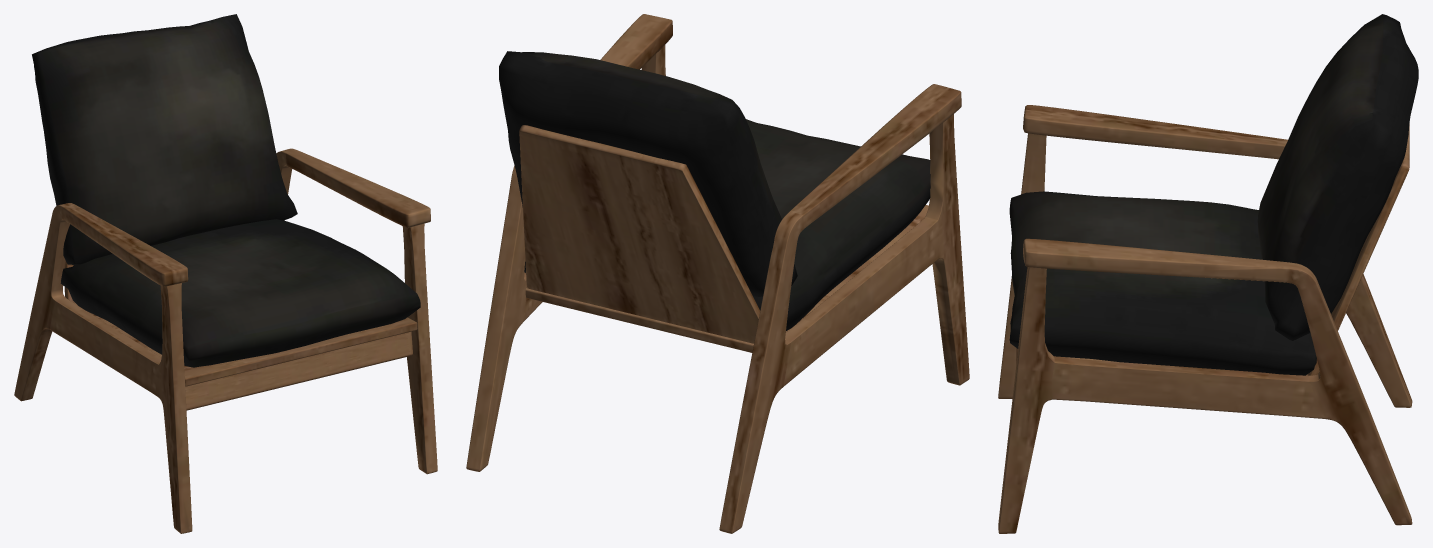
Rendered from arm_chair.glb.
3 renders of one model, left to right at view 1: azimuth 30°, elevation 25°; view 2: azimuth 150°, elevation 25°; view 3: azimuth 270°, elevation 25°, orthographic. The views are drawn at different scales.
Visible parts, largest first — view 1: modern_arm_chair_01; view 2: modern_arm_chair_01; view 3: modern_arm_chair_01.
Boxes of the visible parts, box(x1,y1,x2,y2) form: modern_arm_chair_01: box(14, 14, 437, 533); modern_arm_chair_01: box(466, 14, 969, 533); modern_arm_chair_01: box(998, 14, 1418, 533).
Bounding box in the file's own units: 0.8203 × 1.02 × 0.9865.
Materials: 2 (2 with a texture image).
